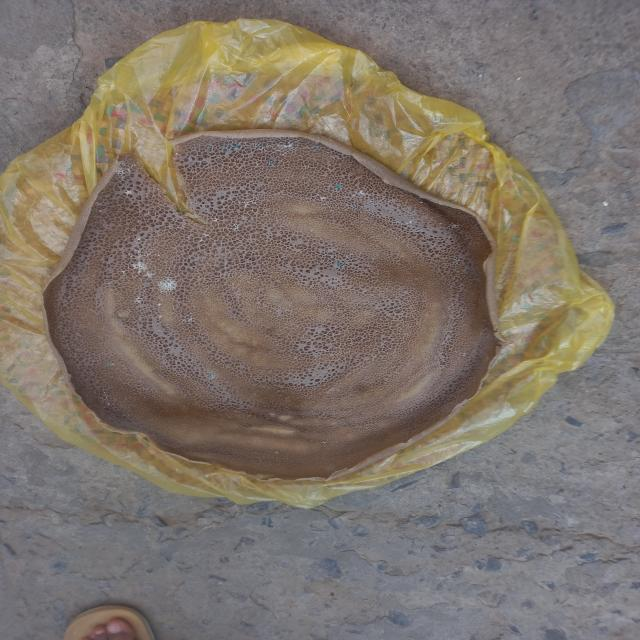injera_mold: (119, 237, 160, 258), (119, 260, 153, 281), (110, 159, 140, 177), (94, 389, 114, 412), (156, 276, 180, 294), (93, 198, 114, 214), (176, 311, 198, 326), (274, 143, 301, 155), (237, 198, 260, 209), (350, 188, 372, 199), (222, 222, 242, 232), (196, 232, 211, 244), (202, 370, 218, 381), (315, 194, 328, 203), (104, 359, 115, 369), (332, 182, 343, 192), (445, 224, 464, 229), (122, 190, 135, 197), (264, 160, 275, 167), (252, 141, 262, 148), (314, 145, 322, 153), (334, 262, 346, 267), (133, 297, 141, 304), (220, 146, 228, 152), (232, 144, 240, 150), (370, 255, 378, 261), (157, 314, 163, 320), (453, 258, 462, 262), (276, 449, 282, 455), (156, 303, 162, 308), (321, 440, 326, 446), (352, 206, 357, 211), (328, 209, 336, 212), (194, 162, 199, 166), (271, 137, 277, 140), (188, 158, 194, 160)
